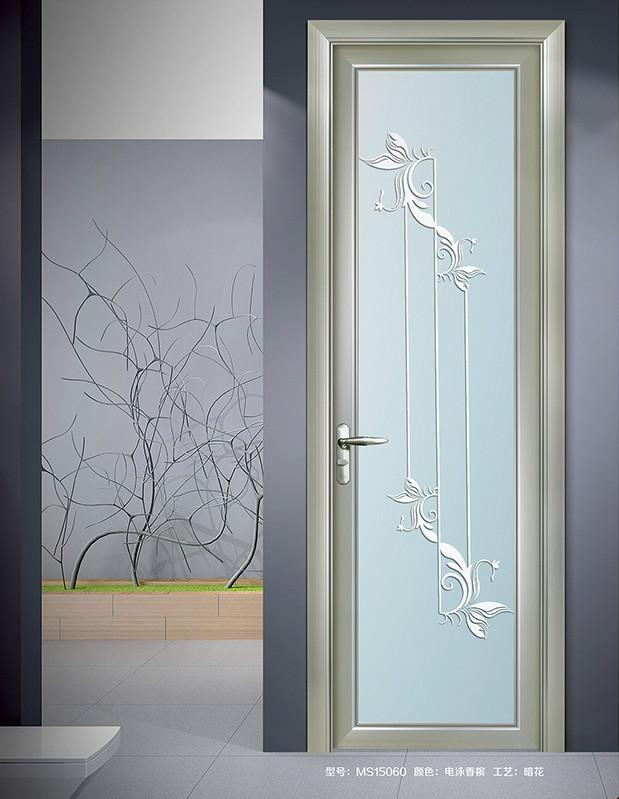door: (330, 42, 538, 744)
